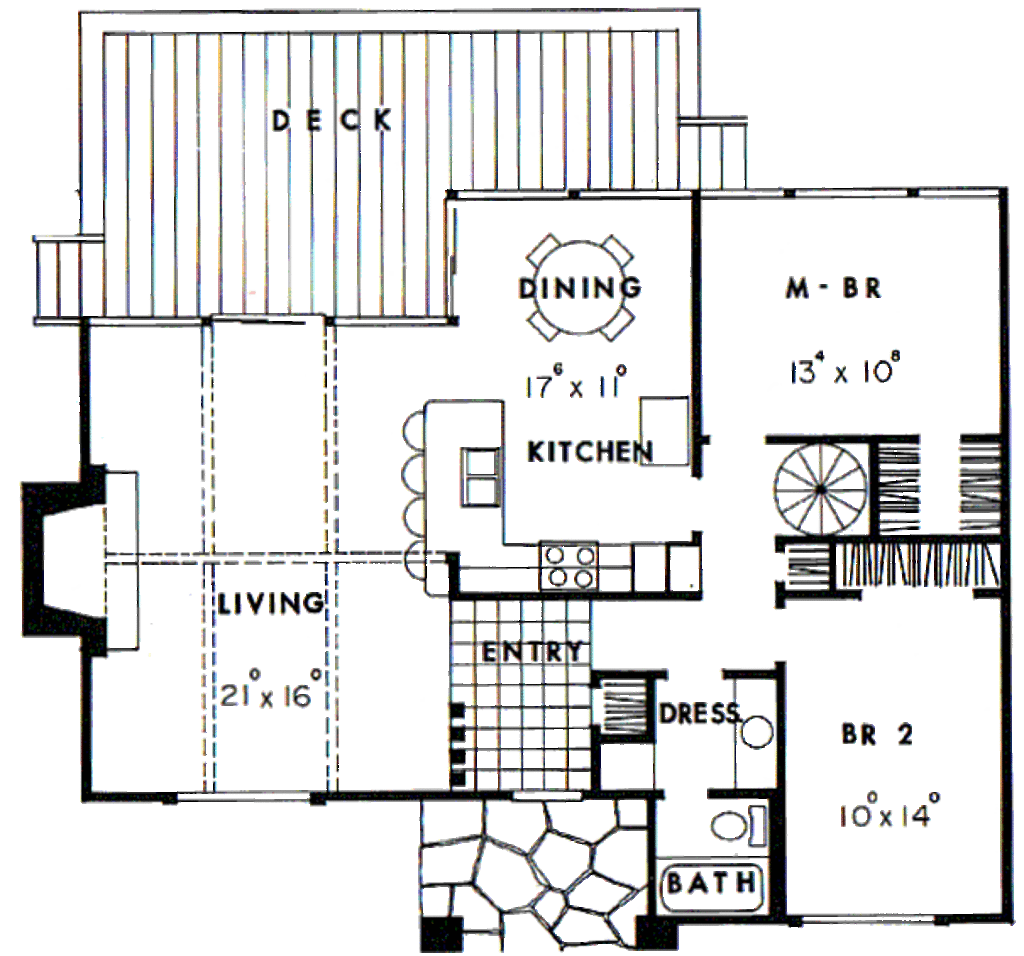kitchen_bar: (404, 393, 545, 599)
large_sink: (705, 796, 770, 850)
small_sink: (730, 681, 788, 787)
tub: (658, 853, 770, 921)
twin_sink: (517, 227, 649, 350), (451, 440, 513, 512)
window: (170, 783, 308, 808), (510, 780, 588, 812)
